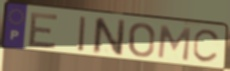C: (191, 29, 223, 65)
E: (26, 12, 60, 50)
I: (77, 15, 88, 54)
M: (155, 24, 193, 63)
N: (92, 16, 128, 58)
O: (127, 22, 156, 59)
